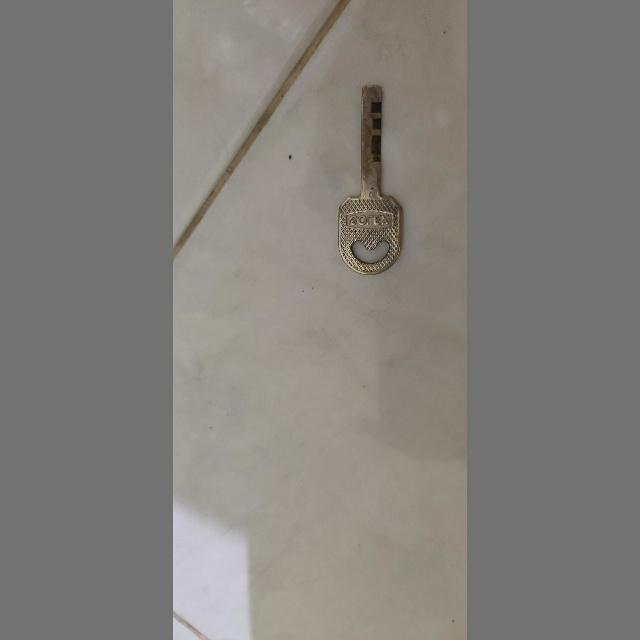Keys: (332, 70, 412, 278)
